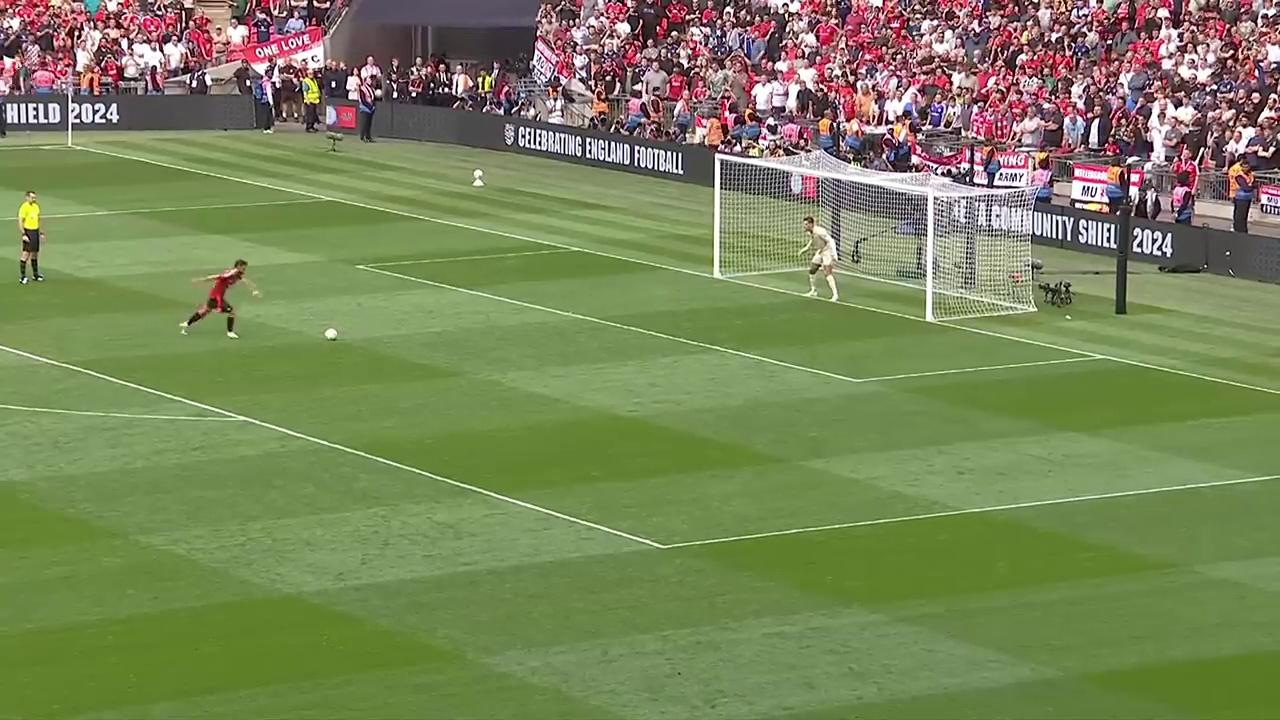ball: (323, 324, 339, 340)
player: (179, 258, 257, 336), (799, 214, 837, 302)
referee: (17, 188, 42, 287)
